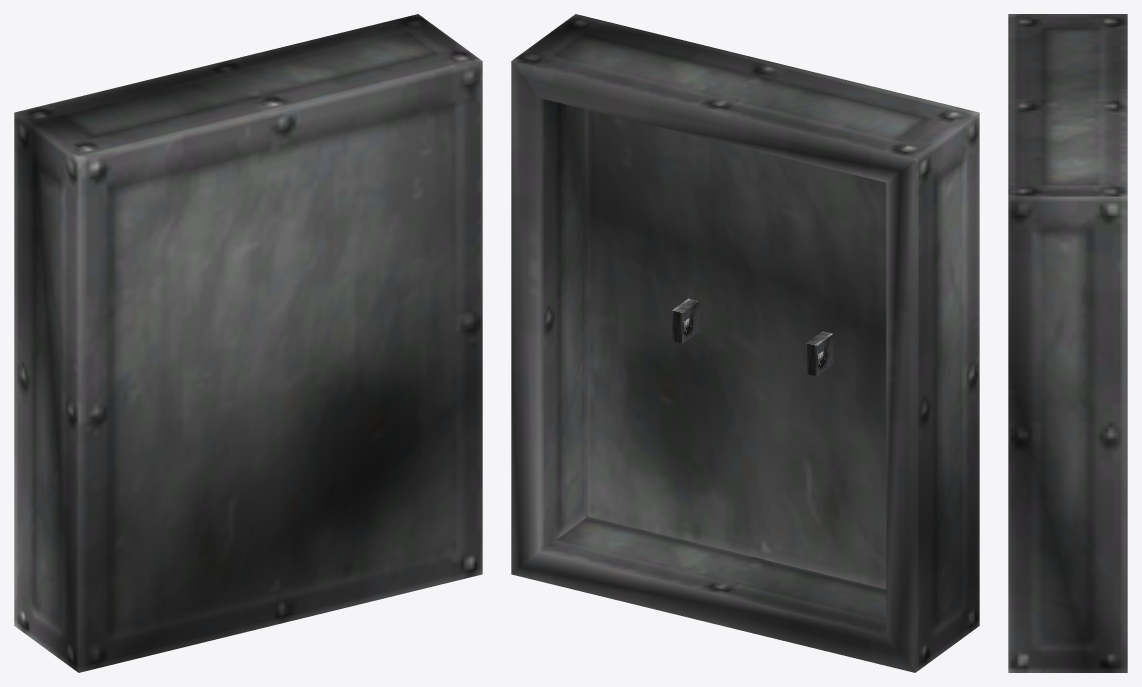
Rendered from INST_SWORDLIGHT_LOCKBOX_BROKE.fbx.
3 renders of one model, left to right at view 1: azimuth 30°, elevation 25°; view 2: azimuth 150°, elevation 25°; view 3: azimuth 270°, elevation 25°, orthographic. The views are drawn at different scales.
Visible parts, largest first — view 1: INST_SWORDLIGHT_LOCKBOX_BROKE; view 2: INST_SWORDLIGHT_LOCKBOX_BROKE; view 3: INST_SWORDLIGHT_LOCKBOX_BROKE.
Part boxes in pixels (box(x1,y1,x2,y2)): INST_SWORDLIGHT_LOCKBOX_BROKE: box(14, 14, 482, 672); INST_SWORDLIGHT_LOCKBOX_BROKE: box(511, 14, 979, 672); INST_SWORDLIGHT_LOCKBOX_BROKE: box(1008, 14, 1127, 672).
Bounding box in the file's own units: 7000 × 8500 × 1931.
2 materials, 2 textured.
